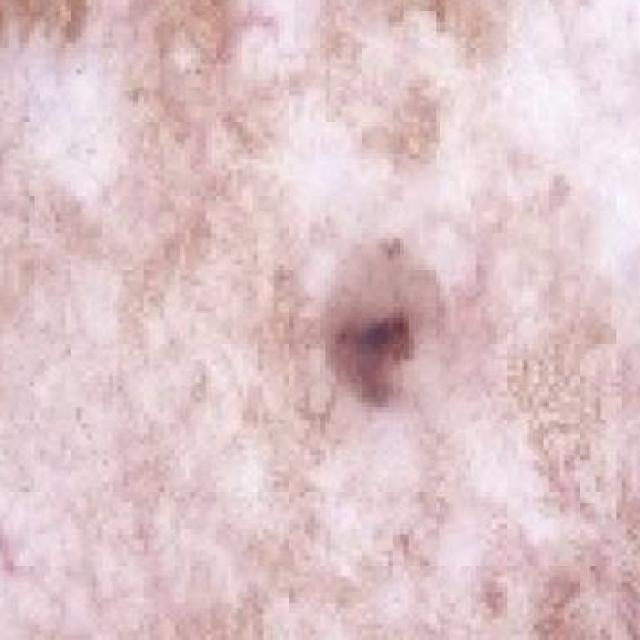BCC: (0, 0, 575, 492)
